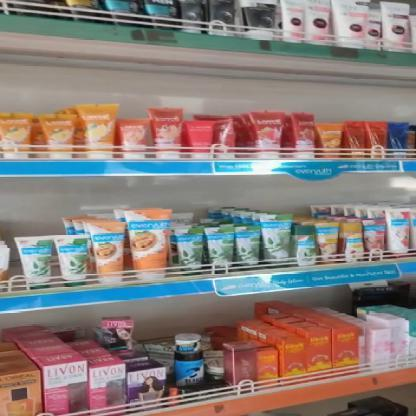EY EXF WALNUT SCRUB AYR 200G: (123, 208, 175, 278), (93, 218, 128, 282)
EY NATURALS NEEM FACE WASH AY 50G: (172, 226, 207, 273), (18, 237, 52, 284), (260, 211, 290, 263), (56, 235, 86, 285), (206, 226, 236, 271), (238, 226, 264, 270)
